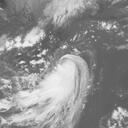cyclone: (40, 54, 90, 109)
